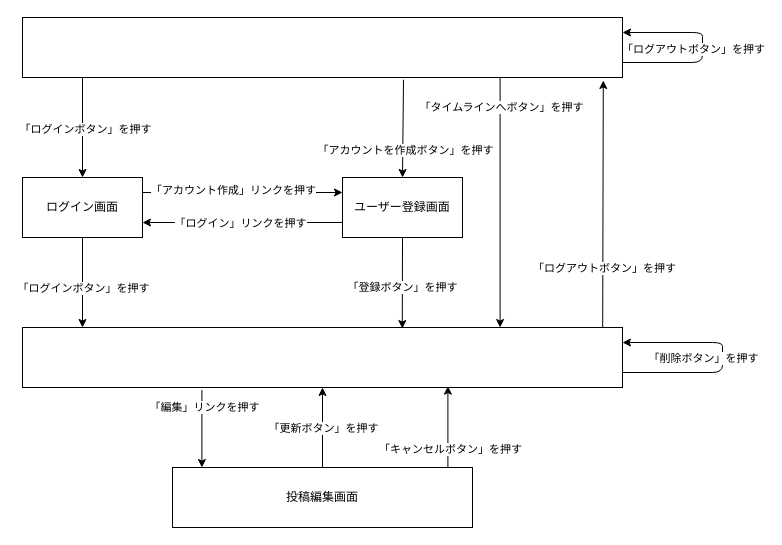
The diagram is 782 pixels wide and 545 high, and some of its shapes have lost their labels. Here are the shapes that lost their labels. From the top down, the box of each, then its label:
(22, 16, 622, 78): タイトル画面
(22, 326, 622, 388): 投稿一覧画面
